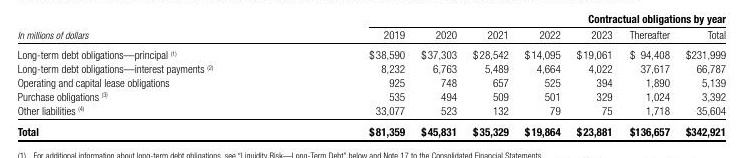table: (0, 0, 744, 158)
